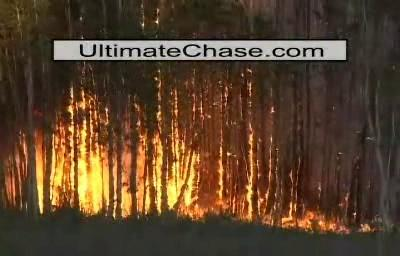fire: (34, 91, 249, 217), (260, 196, 370, 236)
